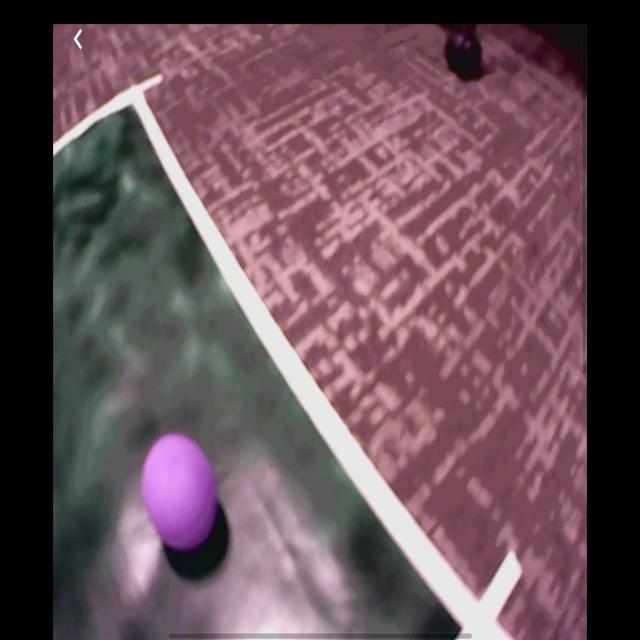ball: (144, 437, 217, 553)
